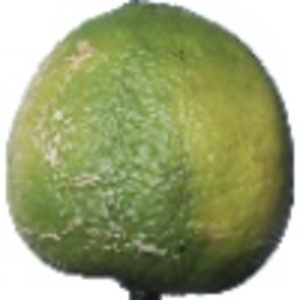limão: (4, 1, 296, 300)
